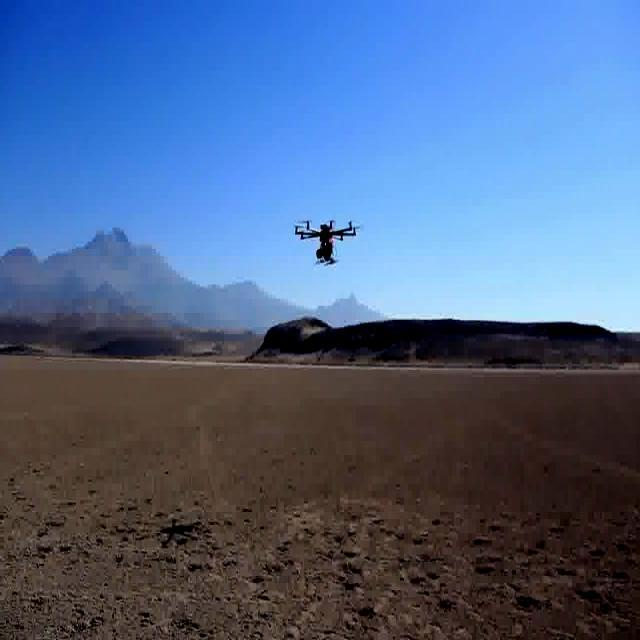drone: (294, 212, 362, 272)
